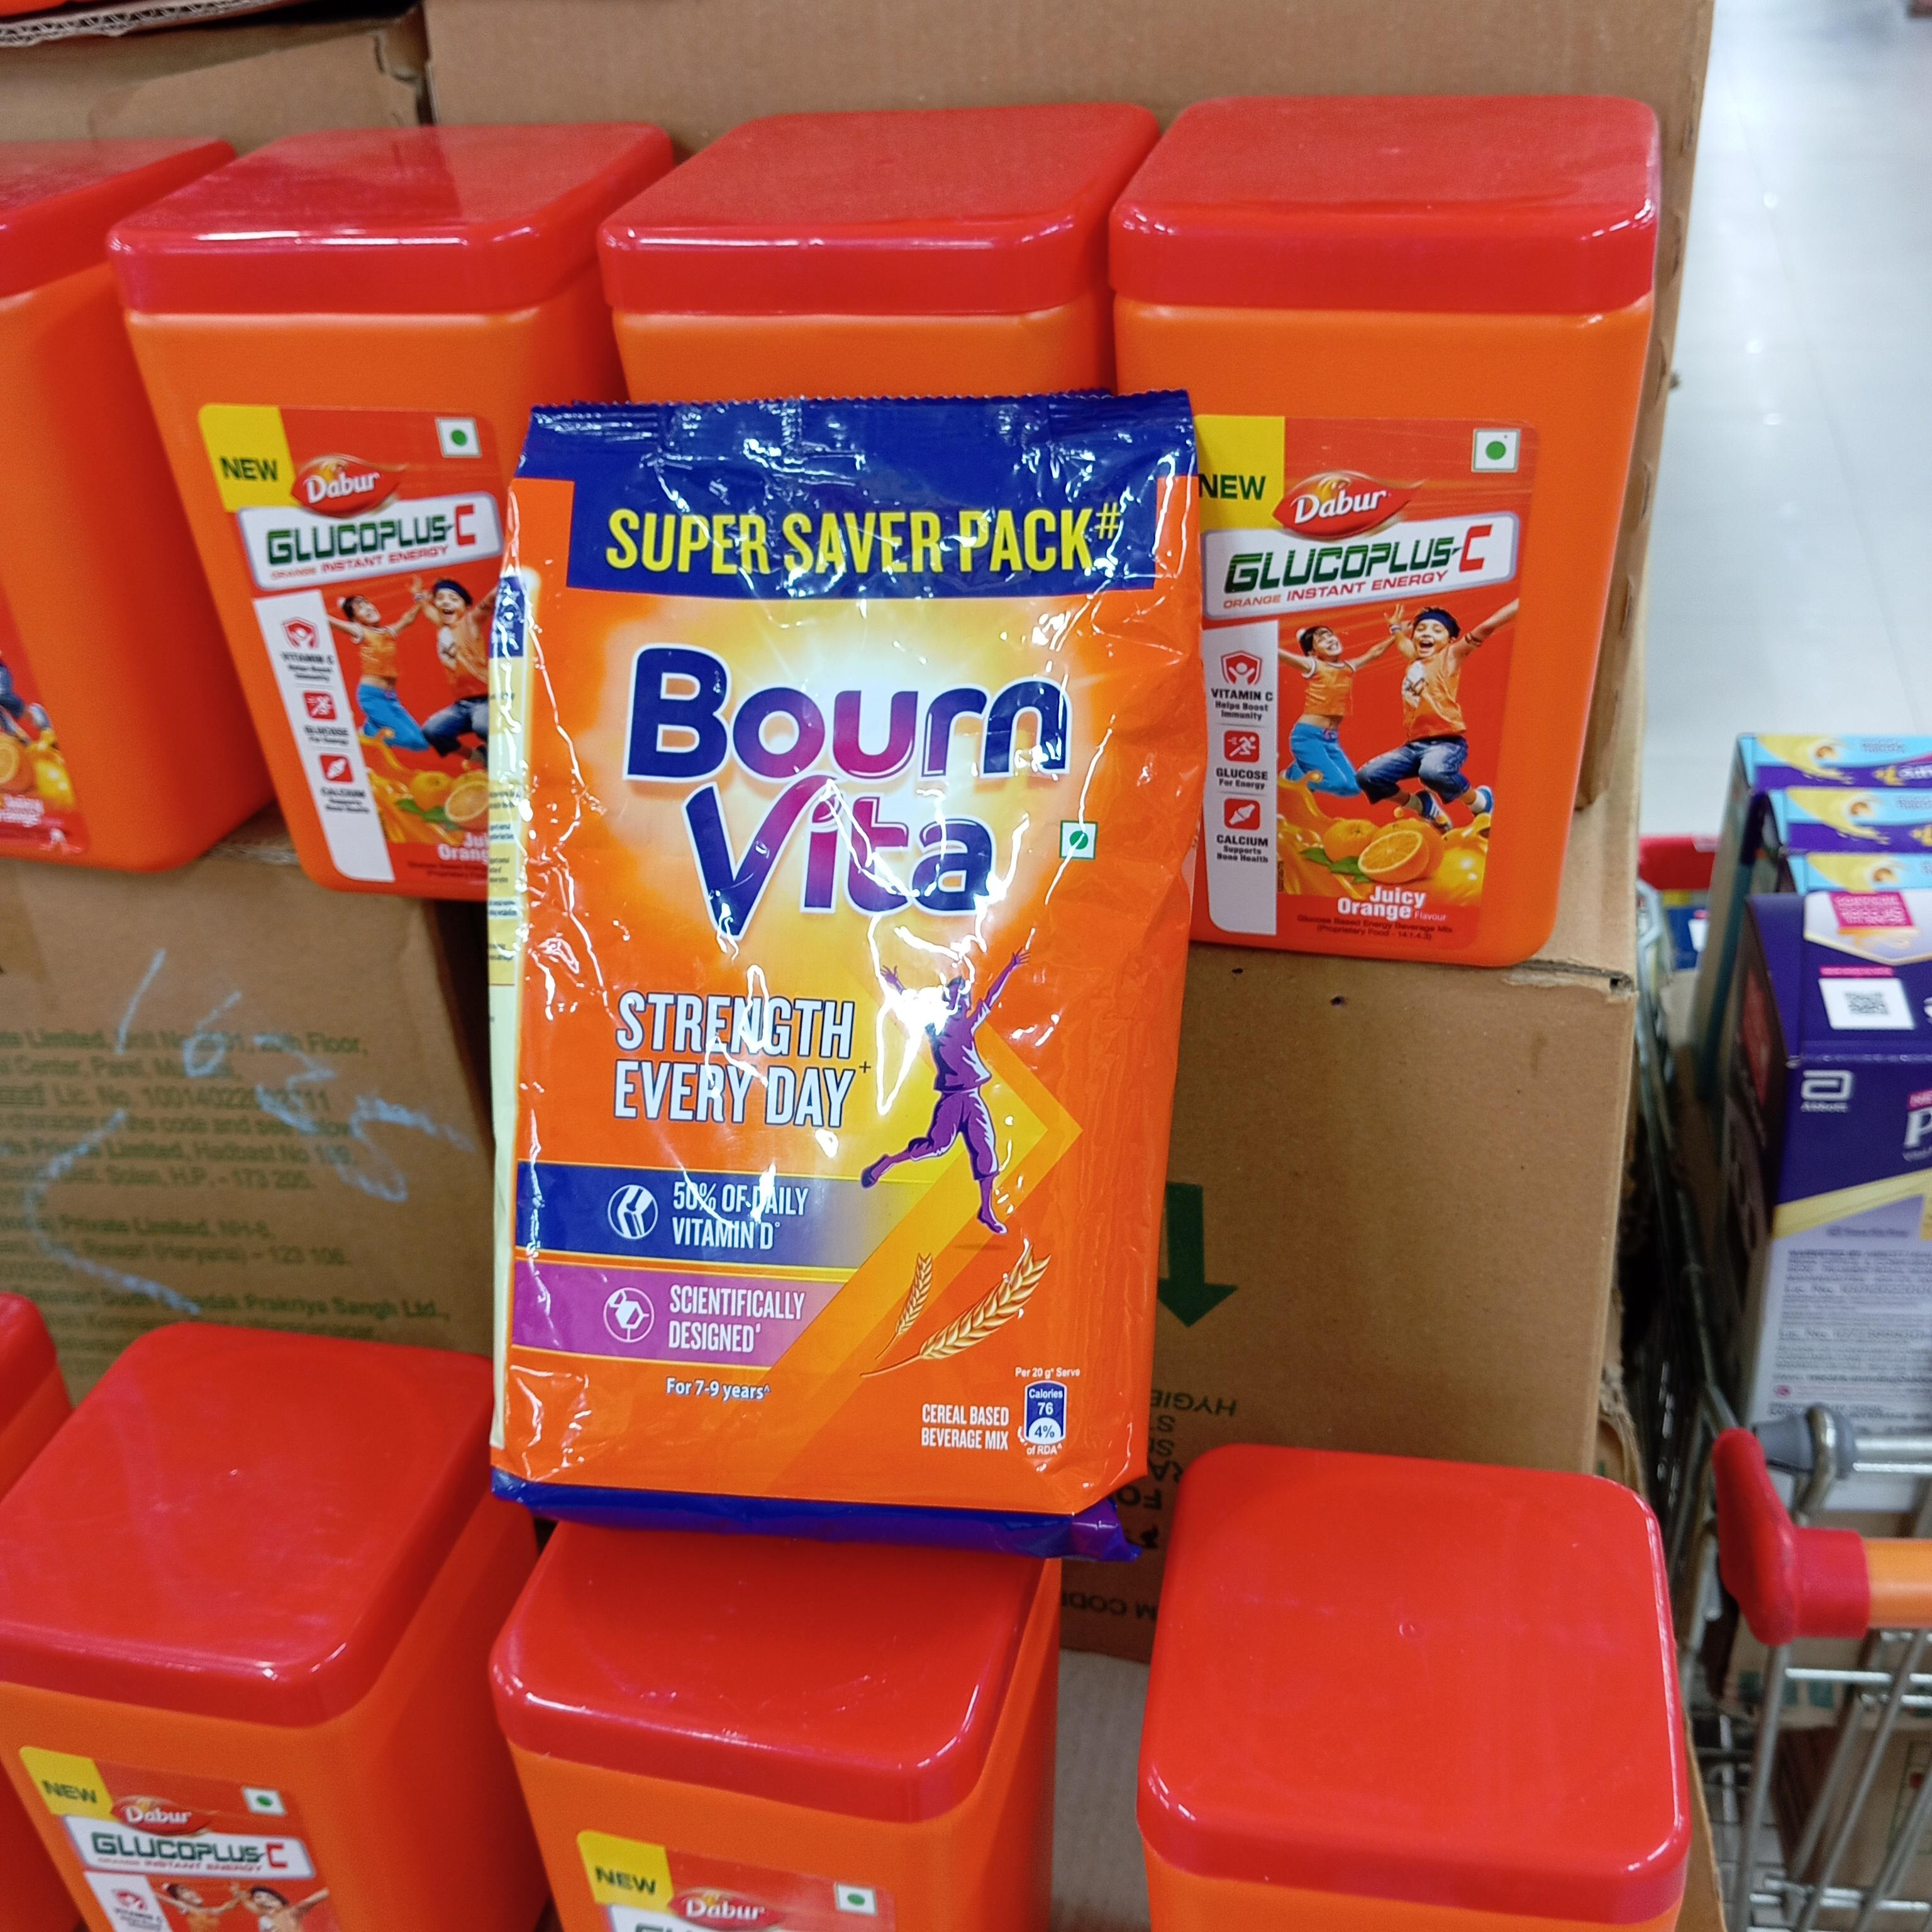BOURN_VITA_1_KG_POUCH: (492, 386, 1134, 1548)
